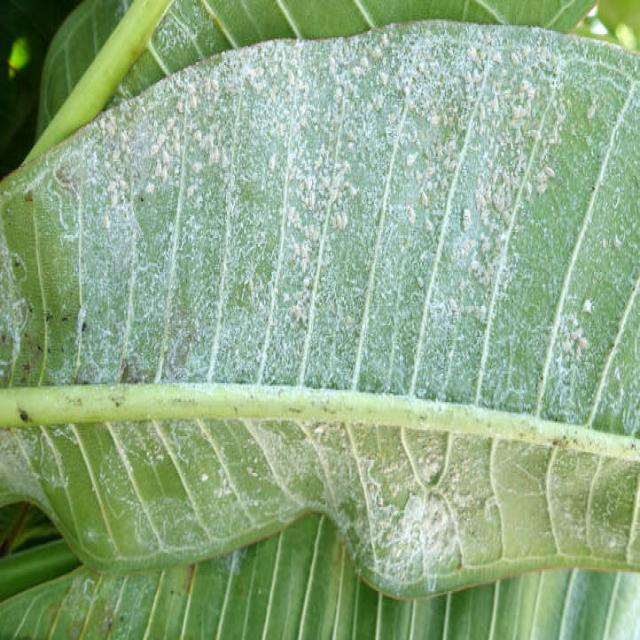Whitefly: (0, 22, 640, 430), (0, 421, 640, 606), (72, 552, 186, 640), (148, 0, 226, 68)
